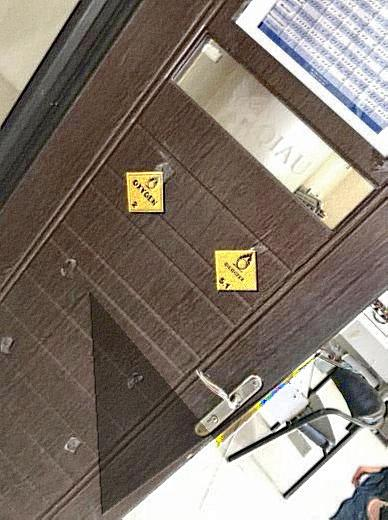oxidizer: (213, 250, 258, 292), (127, 173, 165, 214)
